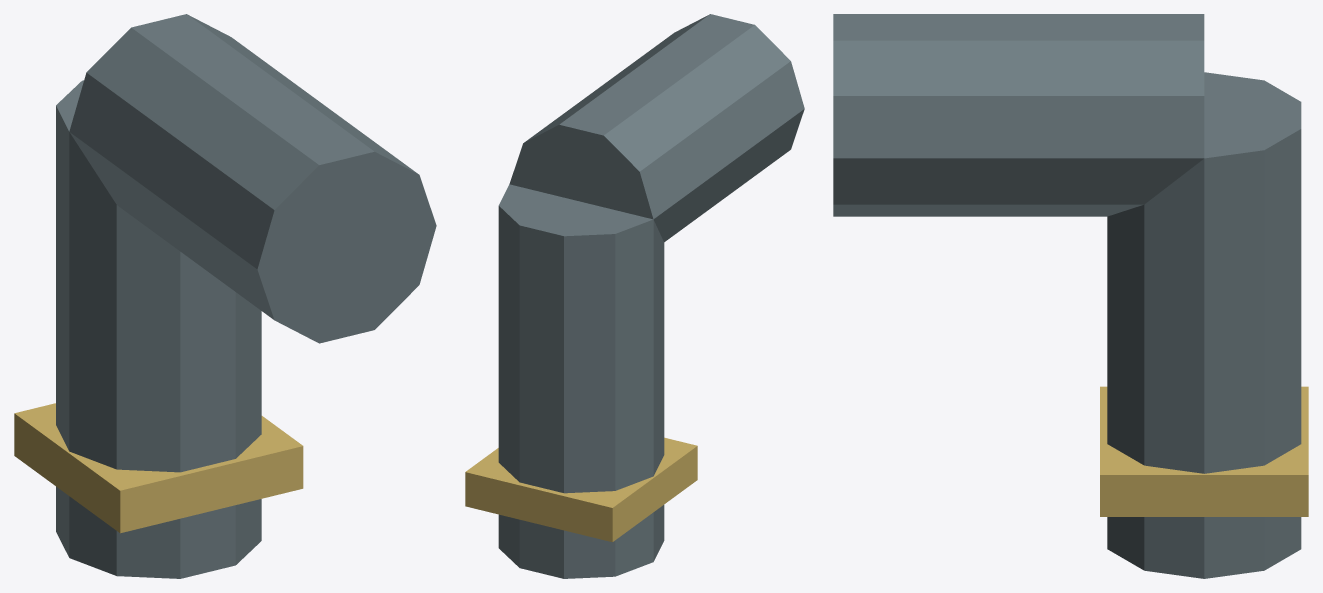
The model's file is zombie-quarantine-streets-broken-pipe-elbow-196e1f3c__19354.glb.
The picture shows the model from 3 angles, left to right: view 1: azimuth 30°, elevation 25°; view 2: azimuth 150°, elevation 25°; view 3: azimuth 270°, elevation 25°; orthographic projection. The views are drawn at different scales.
Parts seen in each view (by area): view 1: broken-pipe-elbow; view 2: broken-pipe-elbow; view 3: broken-pipe-elbow.
Part boxes in pixels (left/top/right/bottom): broken-pipe-elbow: left=14, top=14, right=436, bottom=578; broken-pipe-elbow: left=465, top=14, right=804, bottom=578; broken-pipe-elbow: left=833, top=14, right=1308, bottom=578.
Size of the model in its own units: 0.45 by 1.21 by 1.02.
